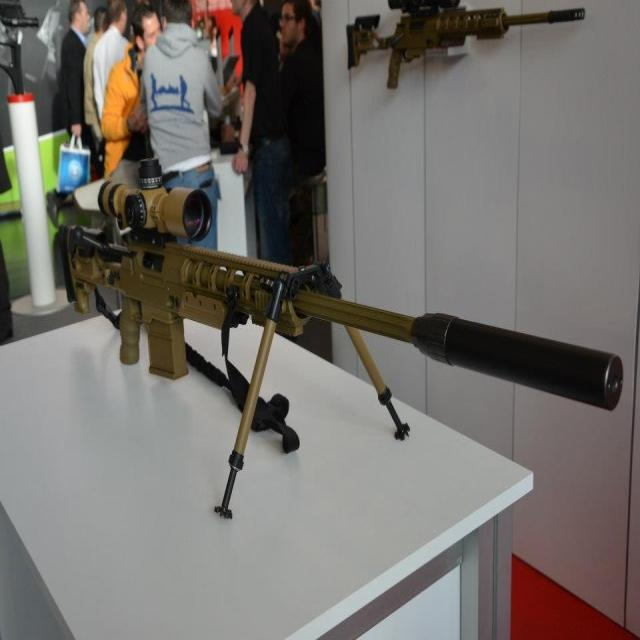firearm: (57, 161, 625, 524), (343, 0, 587, 93)
